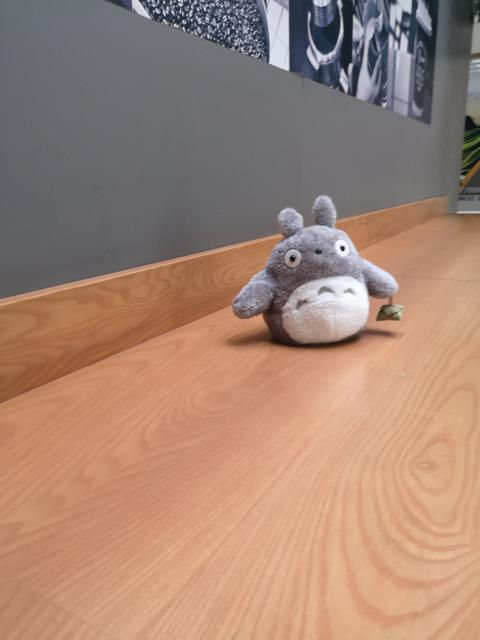totoro: (228, 192, 407, 348)
